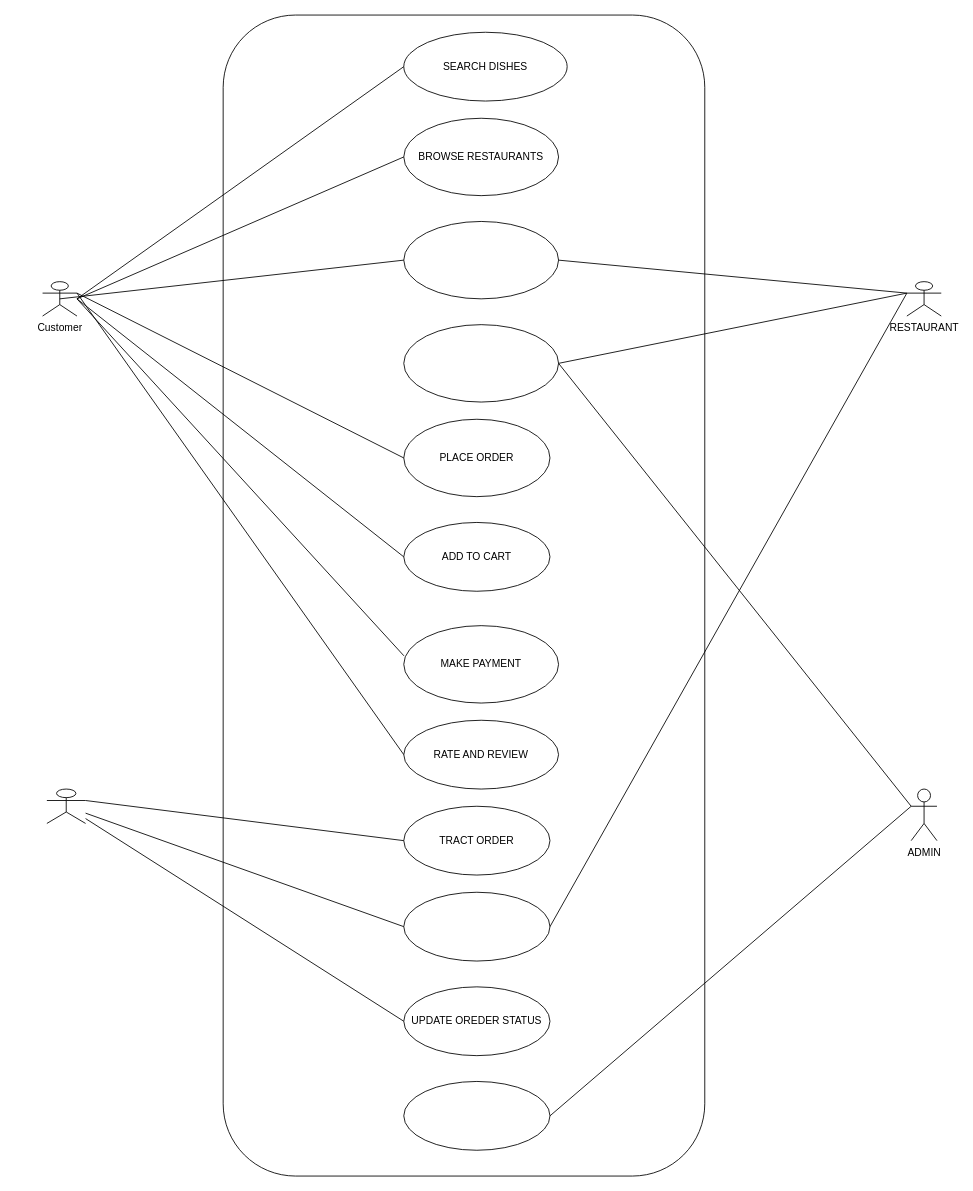
This 973x1191 diagram has some shape labels left out. The box of each missing label's shape, as (x1, y1, x2, y2) in pixels:
ACCEPT ORDER: (403, 891, 550, 961)
DELIVERY PARTNER: (46, 788, 86, 823)
MANAGE MENU: (403, 324, 559, 402)
MANAGE USER AND REPORTS: (403, 1081, 550, 1150)
VIEW MENU: (403, 221, 559, 299)
